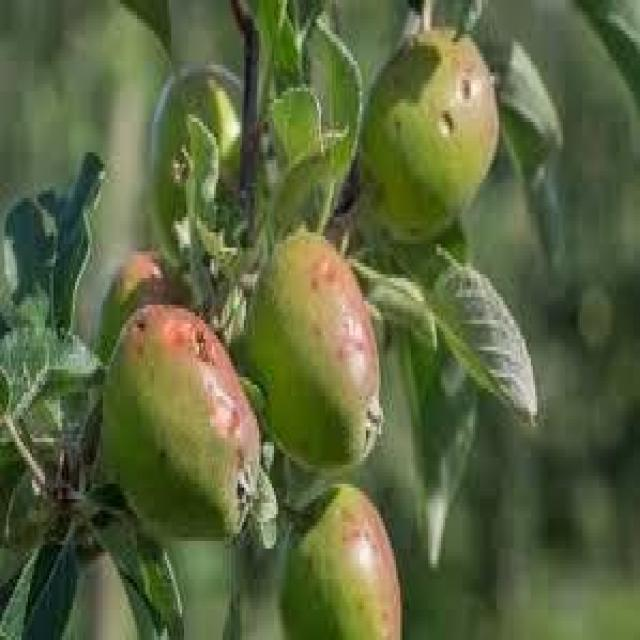maca: (99, 297, 261, 545), (231, 225, 383, 472), (355, 23, 499, 244), (278, 480, 402, 636)
